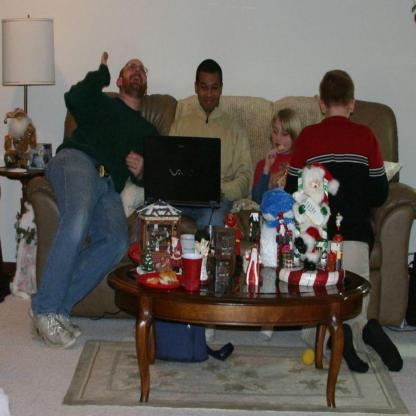board: (137, 130, 225, 218), (181, 253, 202, 290), (332, 213, 344, 272)
